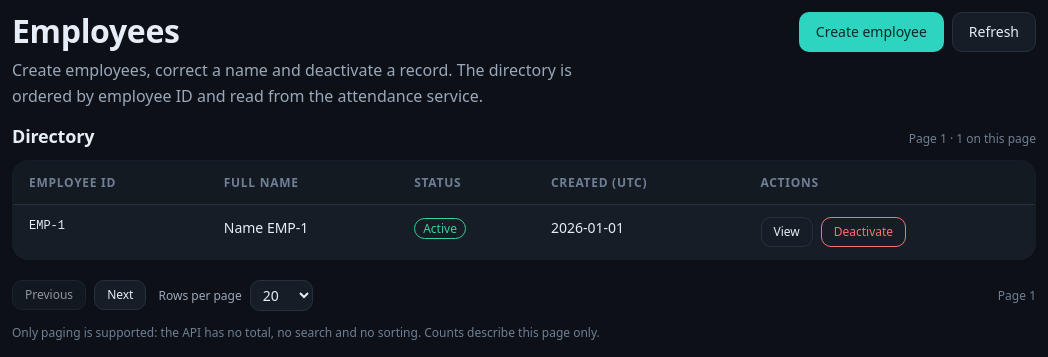
Test: employee directory › pages forward with the cursor and back through local history
Expected: the text "EMP-1" is shown, [29,219,65,233]
Click the button "Next": (120, 296) [94,280,146,310]
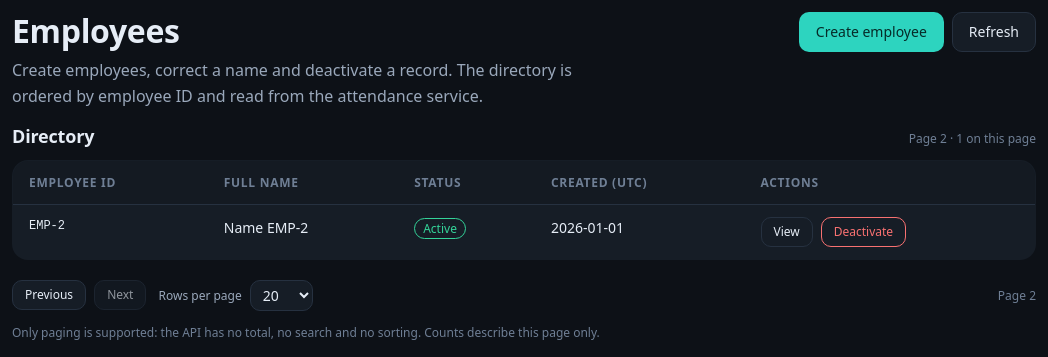
Now the text "EMP-2" is shown, box [29,219,65,233]
Now the text "EMP-1" is gone
Now the text "Page 2 · 1 on this page" is shown, box [909,129,1036,148]
Click the button "Previous": (49, 296) [12,280,86,310]
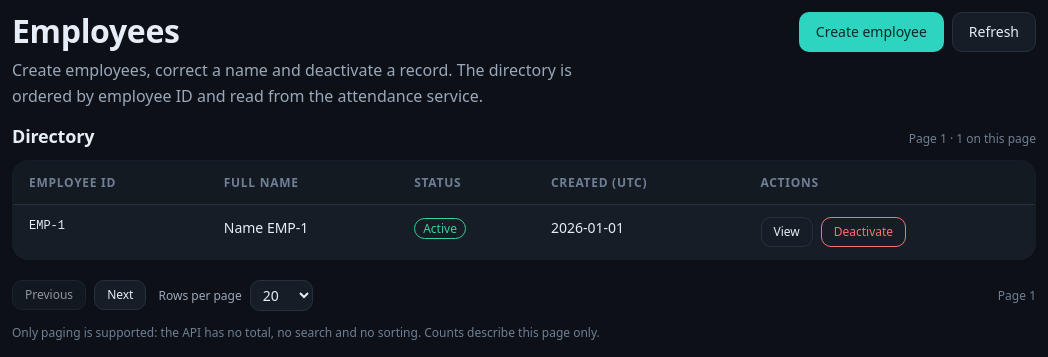
Now the text "EMP-1" is shown, box [29,219,65,233]
Now the text "Page 1 · 1 on this page" is shown, box [909,129,1036,148]
